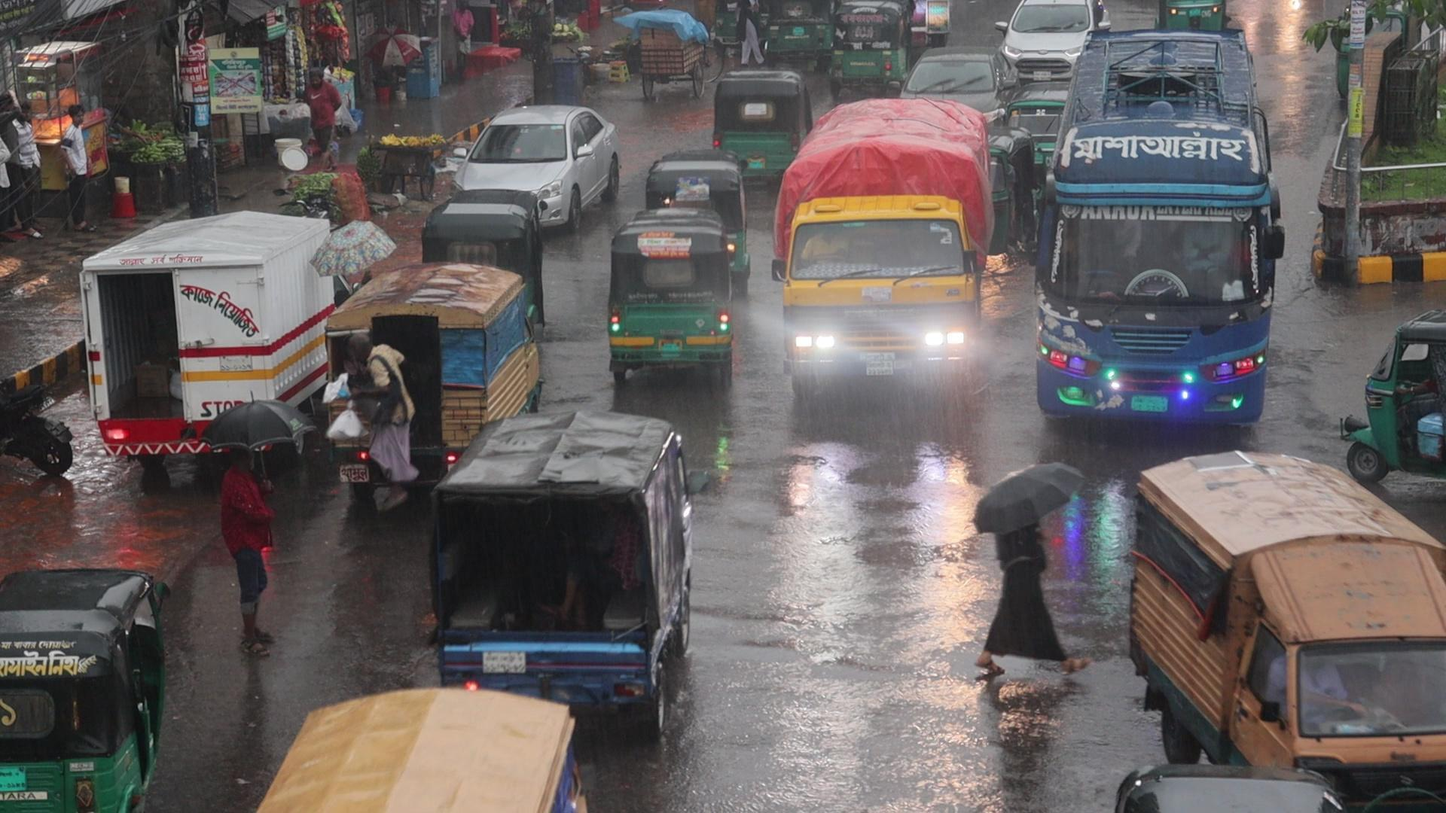Bus: (1032, 24, 1282, 429)
Car: (900, 41, 1019, 107)
Truck: (1122, 449, 1446, 773), (425, 410, 700, 696), (767, 97, 993, 412), (323, 260, 545, 454)
